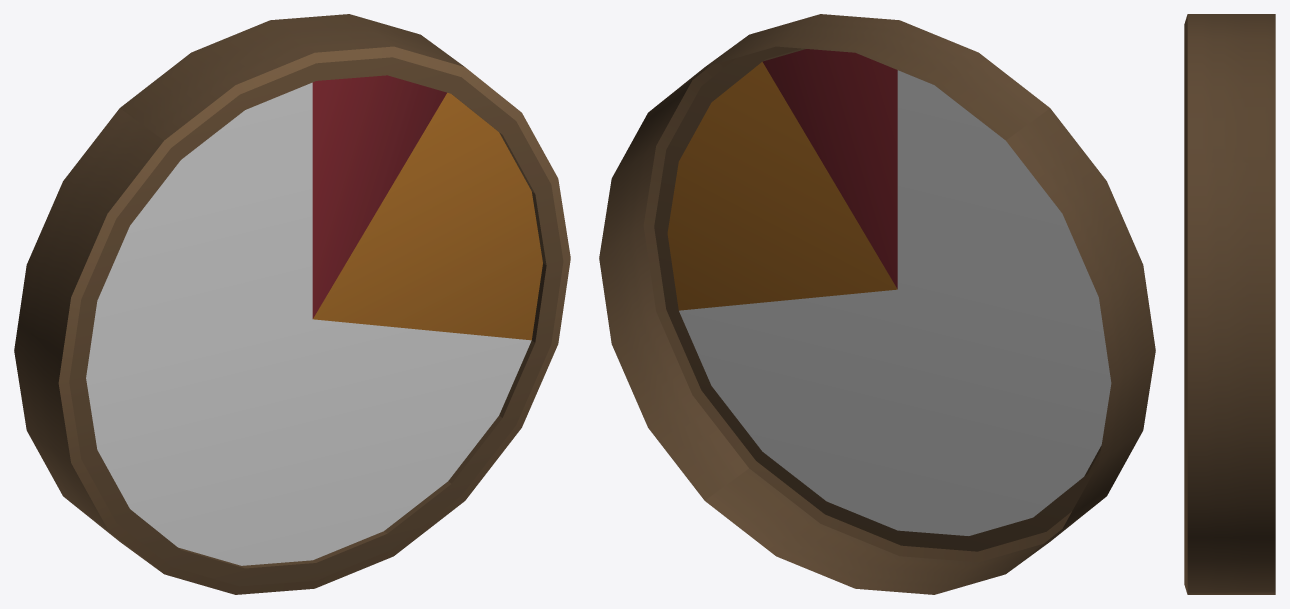
Rendered from altimetro_V2.fbx.
3 views of the same model, side by side, from view 1: azimuth 30°, elevation 25°; view 2: azimuth 150°, elevation 25°; view 3: azimuth 270°, elevation 25° (orthographic).
Parts seen in each view (by area): view 1: altimetro; view 2: altimetro; view 3: altimetro.
Part boxes in pixels (box(x1,y1,x2,y2)): altimetro: box(14, 14, 570, 594); altimetro: box(599, 14, 1155, 594); altimetro: box(1184, 14, 1275, 594).
Bounding box in the file's own units: 15.39 × 15.39 × 2.4.
